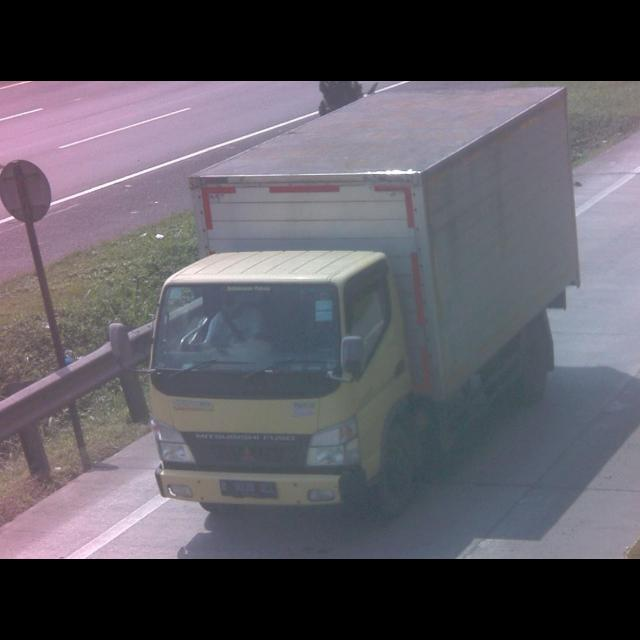plate: (218, 479, 278, 501)
